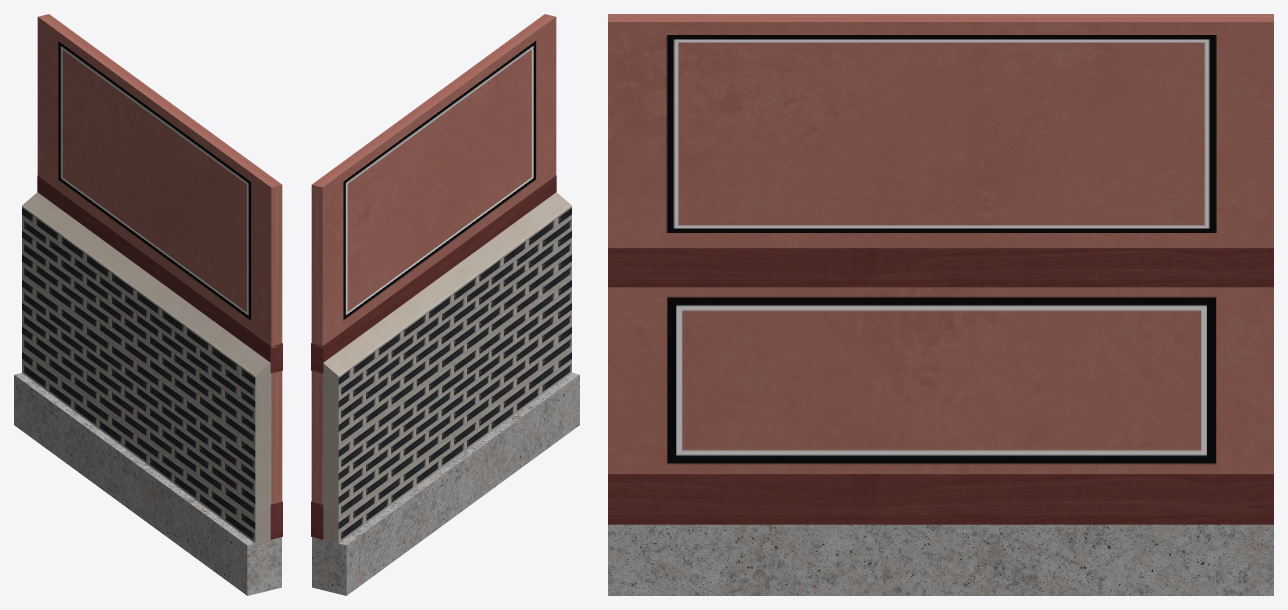
Rendered from SM_Wall07C.fbx.
The picture shows the model from 3 angles, left to right: view 1: azimuth 30°, elevation 25°; view 2: azimuth 150°, elevation 25°; view 3: azimuth 270°, elevation 25°; orthographic projection. The views are drawn at different scales.
Visible parts, largest first — view 1: SM_Wall07C; view 2: SM_Wall07C; view 3: SM_Wall07C.
Boxes of the visible parts, x1=… form: SM_Wall07C: x1=14, y1=14, x2=282, y2=595; SM_Wall07C: x1=311, y1=14, x2=579, y2=595; SM_Wall07C: x1=608, y1=14, x2=1273, y2=595.
Bounding box in the file's own units: 26.42 × 302 × 287.
